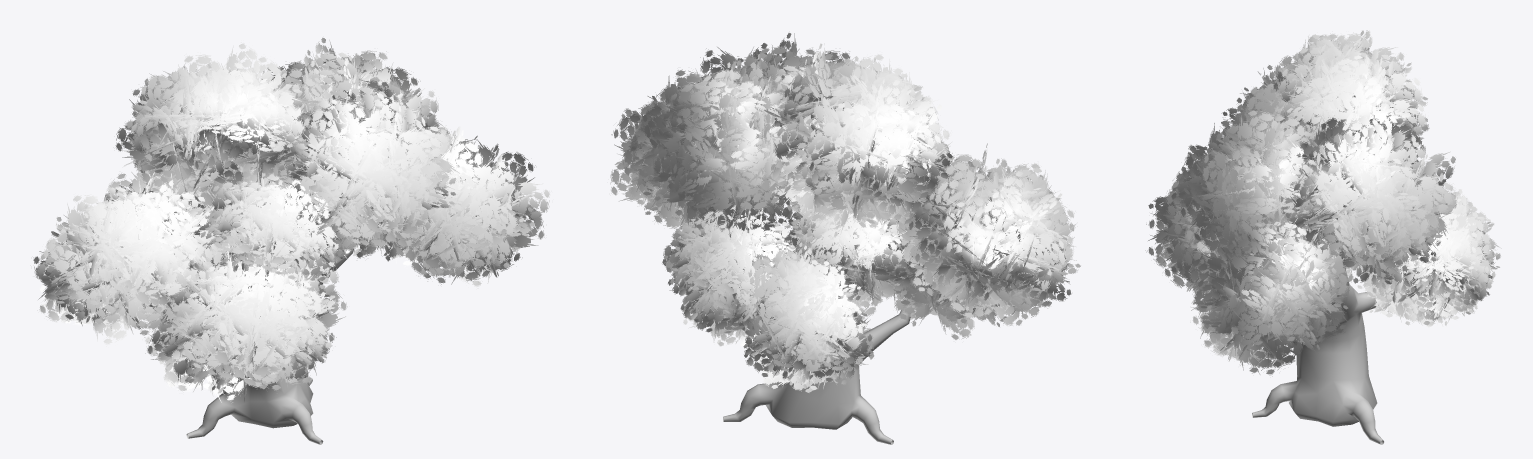
The model's file is hgs_ts01.fbx.
3 renders of one model, left to right at view 1: azimuth 30°, elevation 25°; view 2: azimuth 150°, elevation 25°; view 3: azimuth 270°, elevation 25°, orthographic. The views are drawn at different scales.
Visible parts, largest first — view 1: ts_yz01, ts_sg01; view 2: ts_yz01, ts_sg01; view 3: ts_yz01, ts_sg01.
Part boxes in pixels (x1,y1,x2,y2): ts_yz01: (33,37,551,402); ts_sg01: (186,249,353,444); ts_yz01: (610,33,1080,392); ts_sg01: (723,233,911,444); ts_yz01: (1145,30,1501,376); ts_sg01: (1252,255,1383,444).
Bounding box in the file's own units: 42.81 × 31.97 × 30.17.
